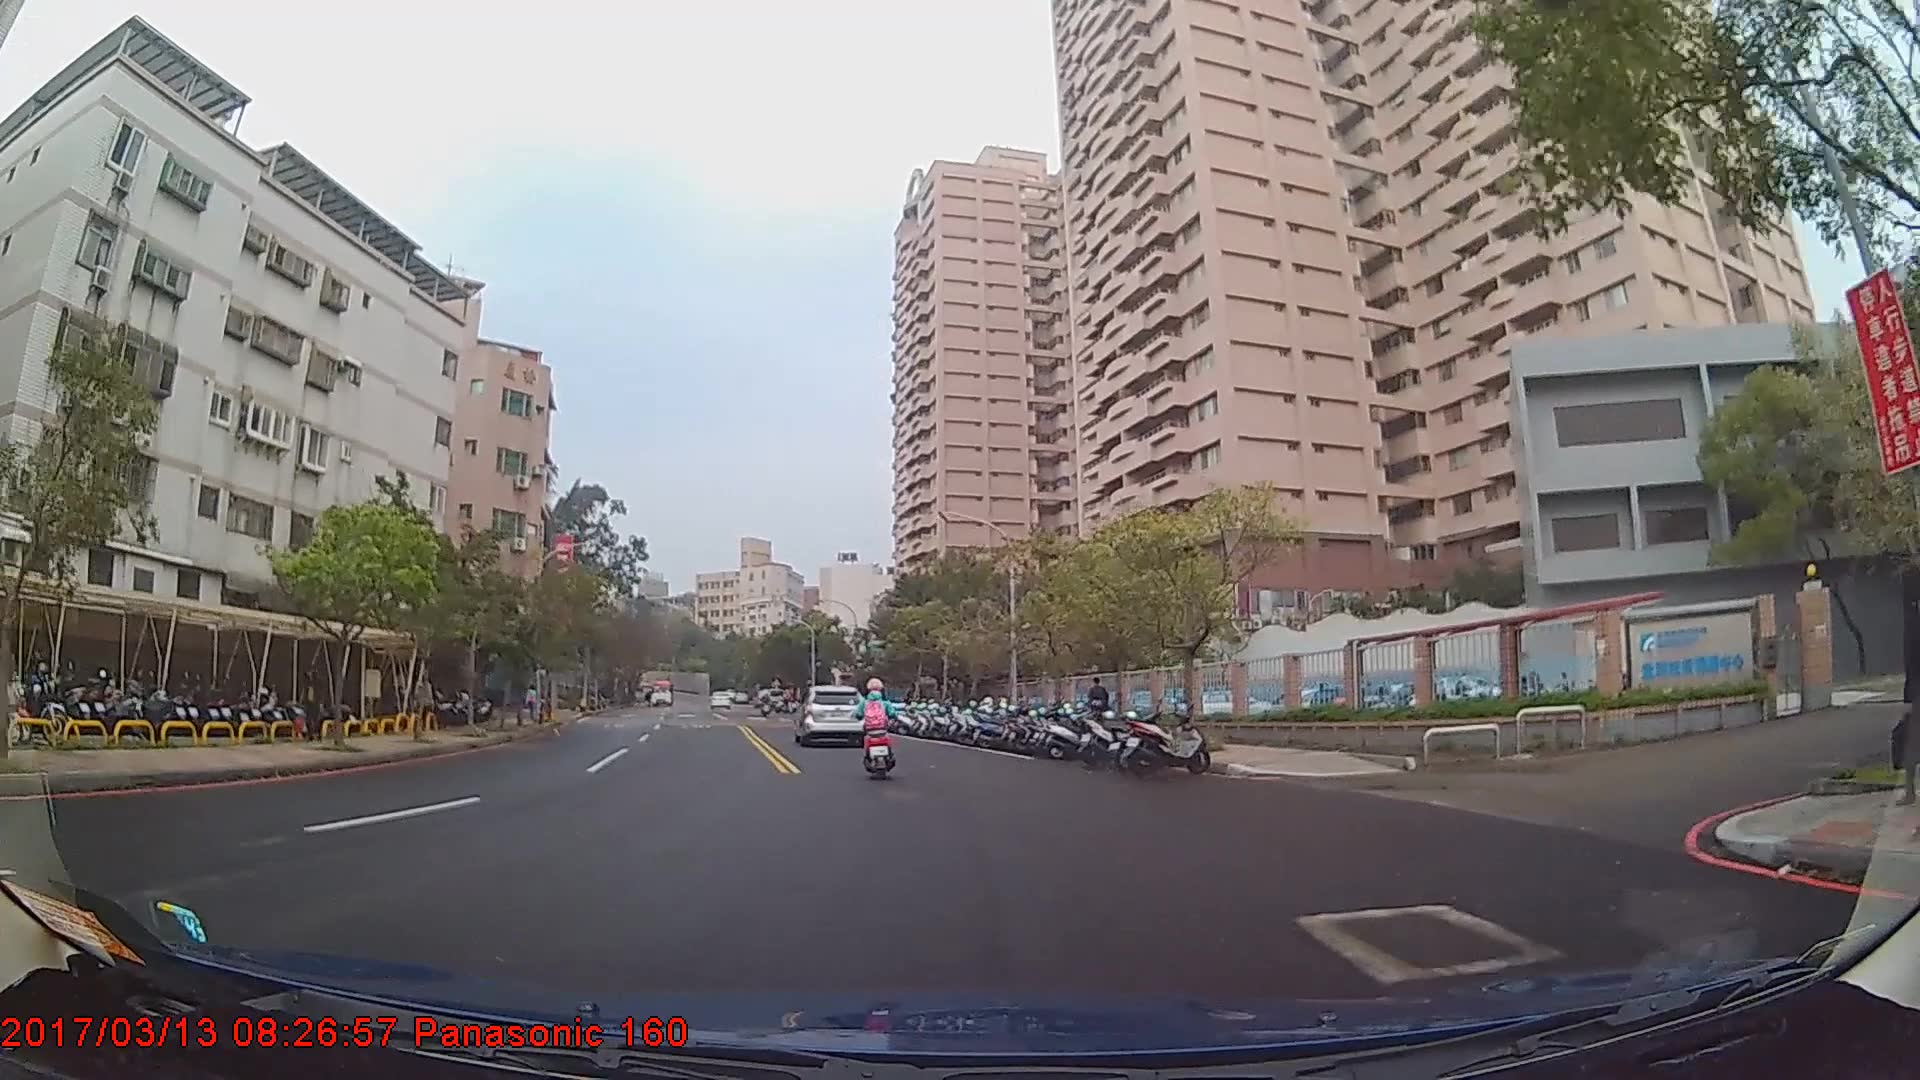pedestrian: (1895, 560, 1920, 810), (301, 662, 326, 738), (1089, 676, 1111, 738)
rider: (855, 675, 896, 769)
vehicle: (796, 683, 871, 746), (647, 678, 676, 707)
